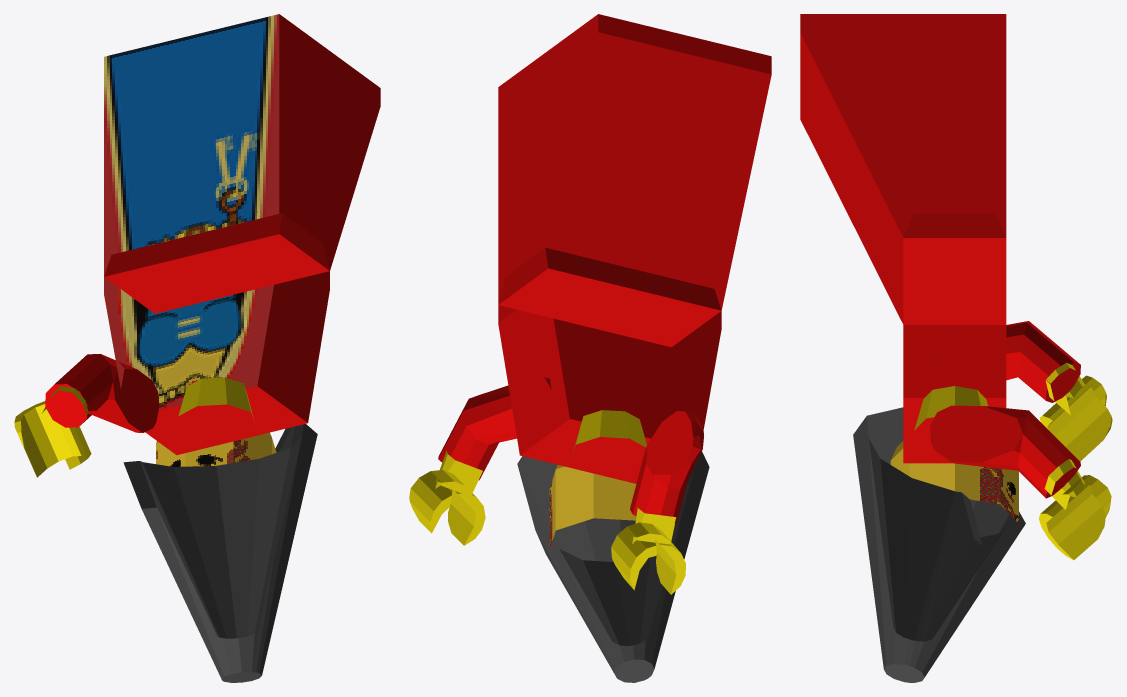
The model's file is minifigqueenleonora00.glb.
The picture shows the model from 3 angles, left to right: view 1: azimuth 30°, elevation 25°; view 2: azimuth 150°, elevation 25°; view 3: azimuth 270°, elevation 25°; orthographic projection. The views are drawn at different scales.
Visible parts, largest first — view 1: 007_Minifig_2_-_Base_No_code_RE, 008_Minifig_2_-_Body_No_code_RE, 010_Minifig_2_-_Head_Queen, 013_Minifig_2_-_Arm_Rt_RE, 016_Minifig_2_-_Hand_YE; view 2: 007_Minifig_2_-_Base_No_code_RE, 008_Minifig_2_-_Body_No_code_RE, 010_Minifig_2_-_Head_Queen, 013_Minifig_2_-_Arm_Rt_RE, 022_Minifig_2_-_Hand_YE, 019_Minifig_2_-_Arm_Lt_RE, 016_Minifig_2_-_Hand_YE; view 3: 007_Minifig_2_-_Base_No_code_RE, 010_Minifig_2_-_Head_Queen, 008_Minifig_2_-_Body_No_code_RE, 019_Minifig_2_-_Arm_Lt_RE, 022_Minifig_2_-_Hand_YE, 016_Minifig_2_-_Hand_YE, 013_Minifig_2_-_Arm_Rt_RE.
Part boxes in pixels (x1,y1,x2,y2): 007_Minifig_2_-_Base_No_code_RE: [104, 14, 380, 313]; 008_Minifig_2_-_Body_No_code_RE: [104, 213, 329, 455]; 010_Minifig_2_-_Head_Queen: [123, 377, 317, 682]; 013_Minifig_2_-_Arm_Rt_RE: [45, 354, 159, 432]; 016_Minifig_2_-_Hand_YE: [14, 386, 91, 477]; 007_Minifig_2_-_Base_No_code_RE: [498, 14, 771, 347]; 008_Minifig_2_-_Body_No_code_RE: [498, 247, 721, 483]; 010_Minifig_2_-_Head_Queen: [517, 410, 709, 682]; 013_Minifig_2_-_Arm_Rt_RE: [630, 410, 703, 522]; 022_Minifig_2_-_Hand_YE: [409, 450, 485, 545]; 019_Minifig_2_-_Arm_Lt_RE: [438, 377, 551, 480]; 016_Minifig_2_-_Hand_YE: [611, 507, 685, 594]; 007_Minifig_2_-_Base_No_code_RE: [800, 14, 1006, 324]; 010_Minifig_2_-_Head_Queen: [853, 386, 1025, 682]; 008_Minifig_2_-_Body_No_code_RE: [903, 213, 1006, 463]; 019_Minifig_2_-_Arm_Lt_RE: [930, 405, 1080, 498]; 022_Minifig_2_-_Hand_YE: [1039, 459, 1111, 559]; 016_Minifig_2_-_Hand_YE: [1039, 362, 1112, 461]; 013_Minifig_2_-_Arm_Rt_RE: [930, 321, 1080, 402].
Size of the model in its own units: 2.36 by 5.32 by 2.43.
6 materials, 3 textured.
